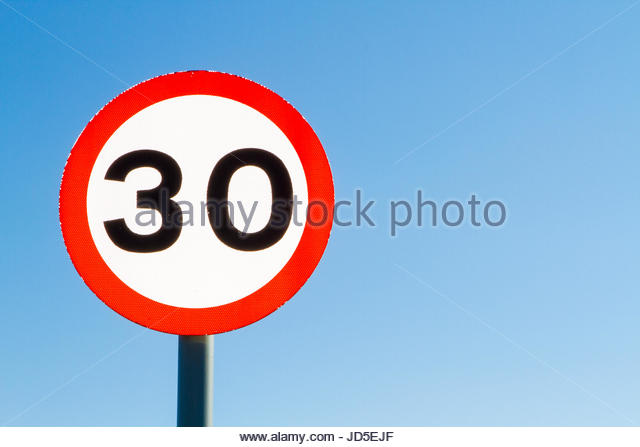Speed_limit_30km: (59, 68, 337, 337)
